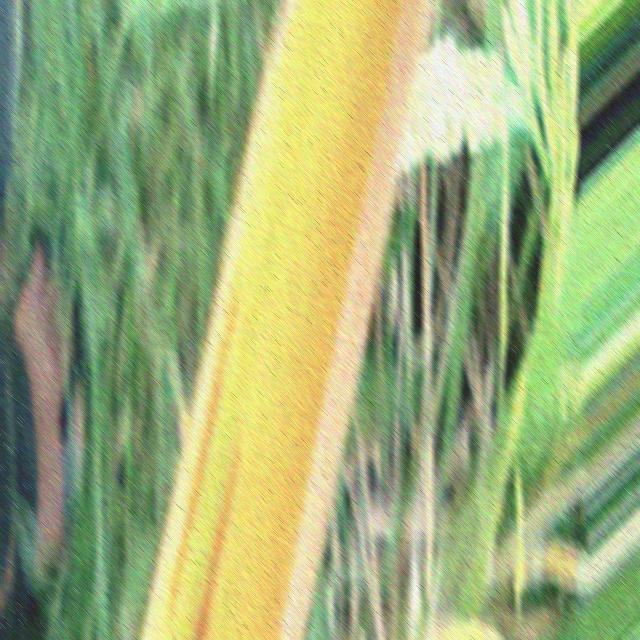NBS: (169, 275, 241, 620), (193, 423, 241, 640)
